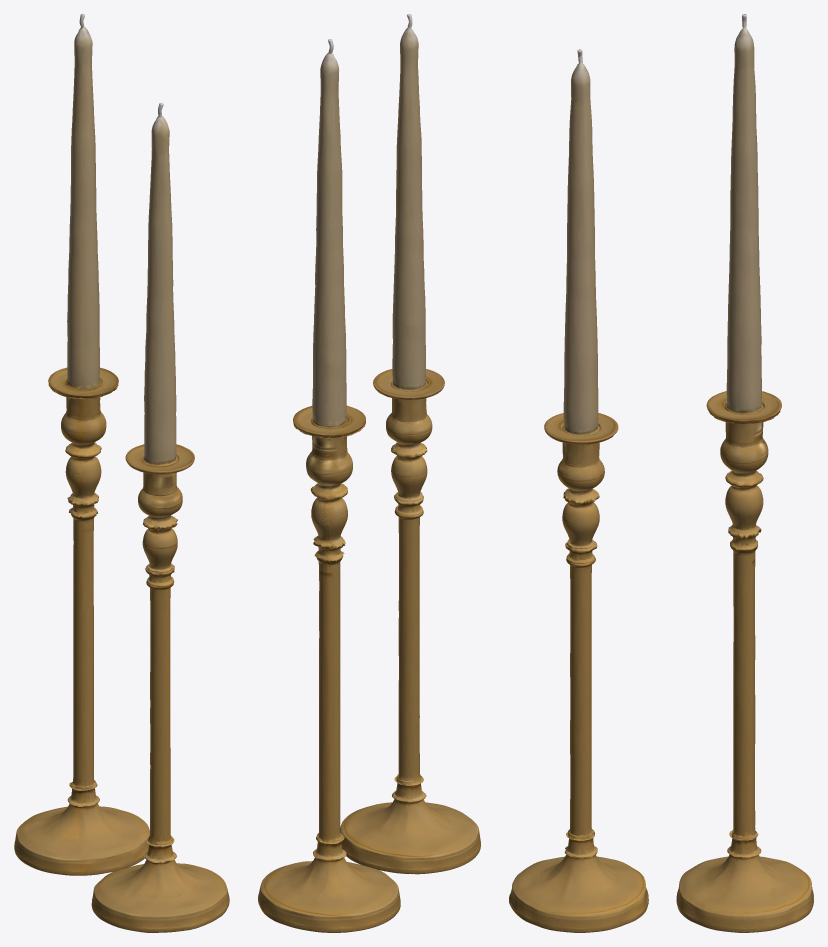
File: decor-candlestick-gold.glb
3 views of the same model, side by side, from view 1: azimuth 30°, elevation 25°; view 2: azimuth 150°, elevation 25°; view 3: azimuth 270°, elevation 25° (orthographic). The views are drawn at different scales.
Visible parts, largest first — view 1: tripo_node_170f98ba-70c0-4d43-800d-ec49e5fde472; view 2: tripo_node_170f98ba-70c0-4d43-800d-ec49e5fde472; view 3: tripo_node_170f98ba-70c0-4d43-800d-ec49e5fde472.
Boxes of the visible parts, x1,y1,x2,y2 form: tripo_node_170f98ba-70c0-4d43-800d-ec49e5fde472: (14, 14, 229, 932); tripo_node_170f98ba-70c0-4d43-800d-ec49e5fde472: (258, 14, 480, 932); tripo_node_170f98ba-70c0-4d43-800d-ec49e5fde472: (509, 14, 813, 932).
Size of the model in its own units: 0.0607 by 0.4 by 0.1245.
Materials: 1 (1 with a texture image).
